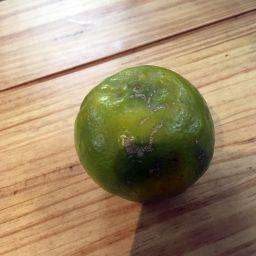Unripe: (72, 65, 214, 203)
